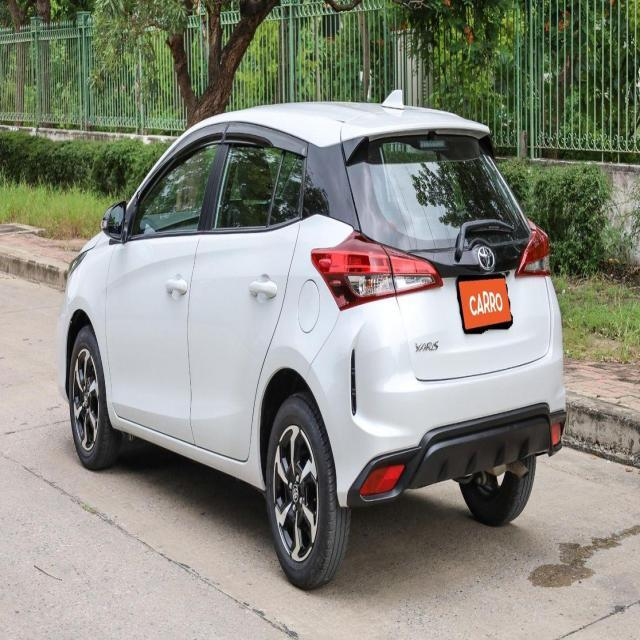Hatchback: (52, 92, 568, 594)
